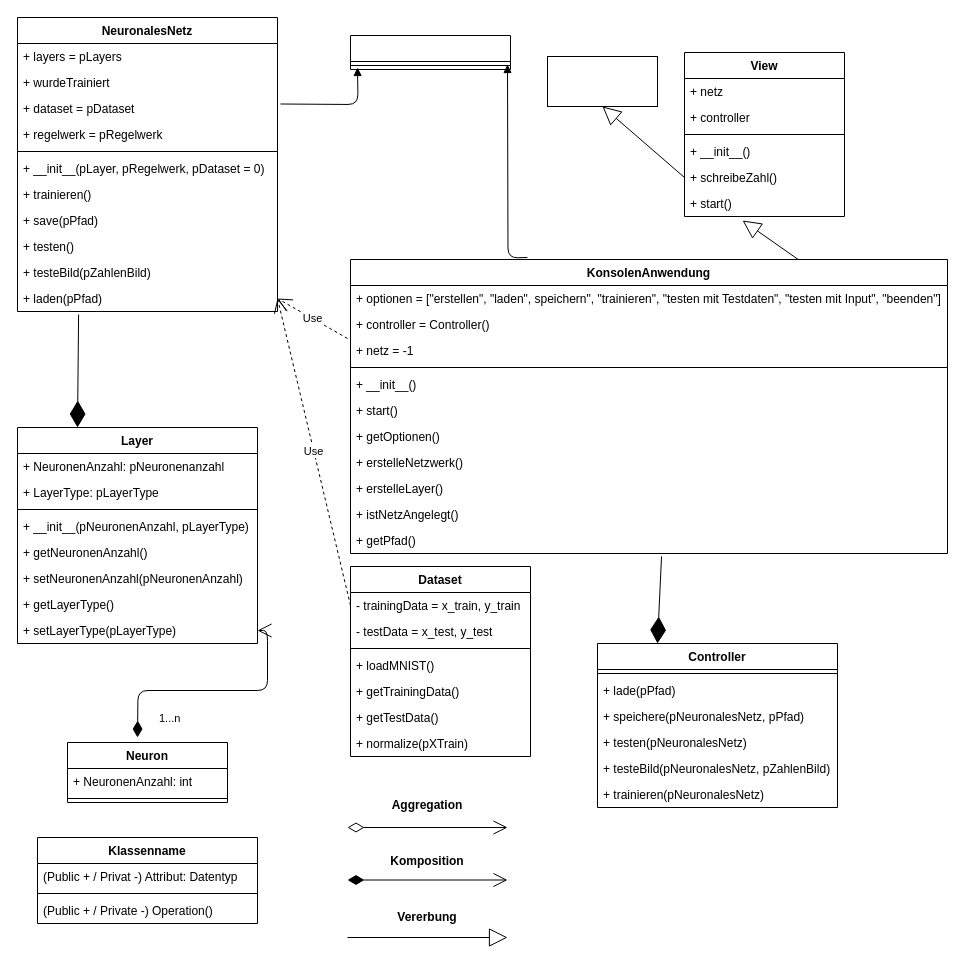
The diagram is 965 pixels wide and 973 high, and some of its shapes have lost their labels. The centre of each missing label's shape, as x and y in pixels:
"ABC" belongs at (x=602, y=81).
"Regelwerk" belongs at (x=430, y=52).
